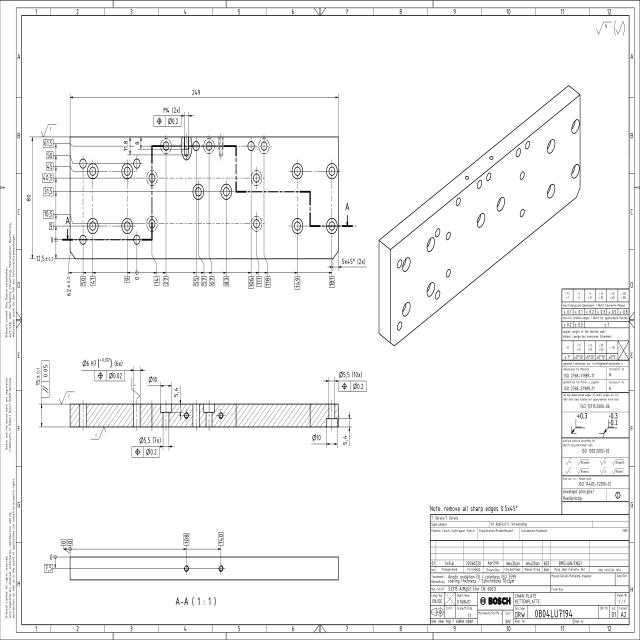dimension: (81, 357, 123, 369), (337, 370, 363, 380), (138, 435, 162, 445), (341, 257, 366, 266), (34, 254, 53, 264), (162, 105, 181, 114), (41, 172, 55, 184), (41, 186, 55, 198), (66, 273, 72, 298), (42, 208, 54, 220), (41, 139, 54, 149), (293, 274, 301, 290), (311, 432, 322, 443), (35, 364, 40, 388), (43, 562, 53, 574), (217, 530, 224, 547), (247, 274, 254, 290), (329, 274, 336, 289), (183, 531, 190, 546), (78, 274, 86, 287), (152, 274, 160, 287), (162, 274, 170, 287), (192, 274, 200, 287), (208, 274, 216, 287), (222, 274, 230, 287), (172, 386, 180, 399), (45, 150, 55, 160), (45, 161, 55, 171), (148, 374, 158, 384), (122, 139, 129, 153), (255, 274, 262, 288), (264, 274, 270, 290), (201, 274, 208, 287), (192, 87, 202, 96), (341, 434, 348, 446), (24, 193, 32, 203), (123, 274, 131, 284), (90, 274, 96, 287), (48, 220, 54, 232), (133, 274, 140, 283), (60, 537, 67, 546), (67, 537, 74, 546), (134, 139, 140, 148), (48, 553, 54, 562), (48, 236, 54, 244)
